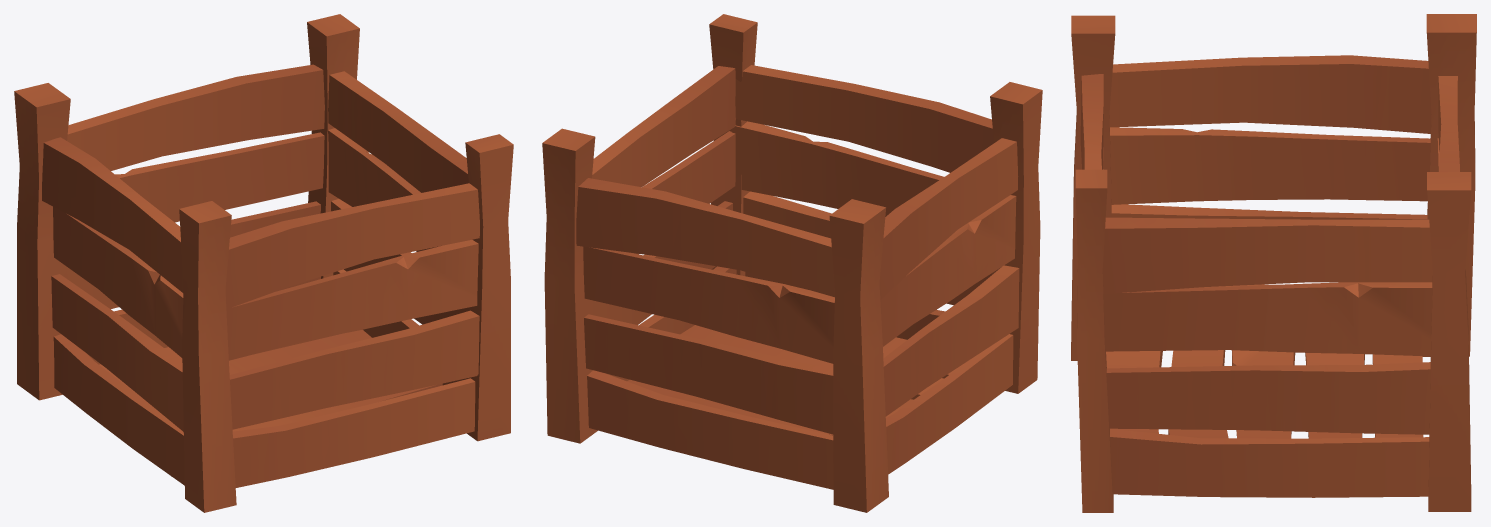
Rendered from SM_Crate_Wood.fbx.
3 renders of one model, left to right at view 1: azimuth 30°, elevation 25°; view 2: azimuth 150°, elevation 25°; view 3: azimuth 270°, elevation 25°, orthographic. The views are drawn at different scales.
Parts seen in each view (by area): view 1: SM_Crate_Wood; view 2: SM_Crate_Wood; view 3: SM_Crate_Wood.
Part boxes in pixels (x1=…): SM_Crate_Wood: x1=14, y1=14, x2=513, y2=512; SM_Crate_Wood: x1=542, y1=14, x2=1042, y2=512; SM_Crate_Wood: x1=1071, y1=14, x2=1476, y2=512.
Size of the model in its own units: 99.15 by 85.21 by 96.46.
